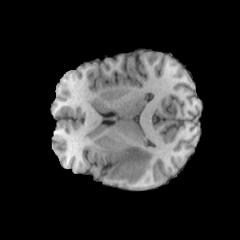glioma: (109, 146, 153, 182)
